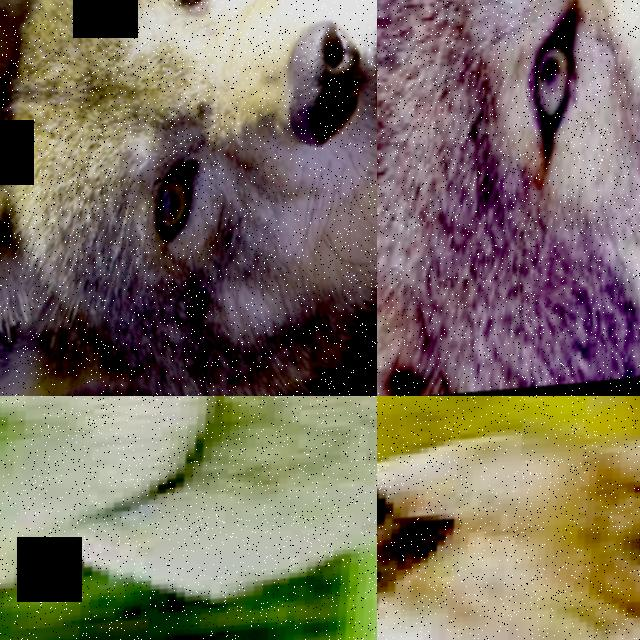dog: (0, 396, 377, 640), (377, 396, 640, 640)
wolf: (0, 0, 377, 396), (377, 0, 640, 396)
